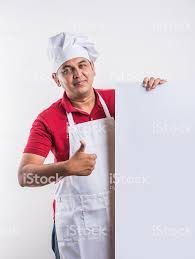Indian_Male: (56, 52, 95, 102)
